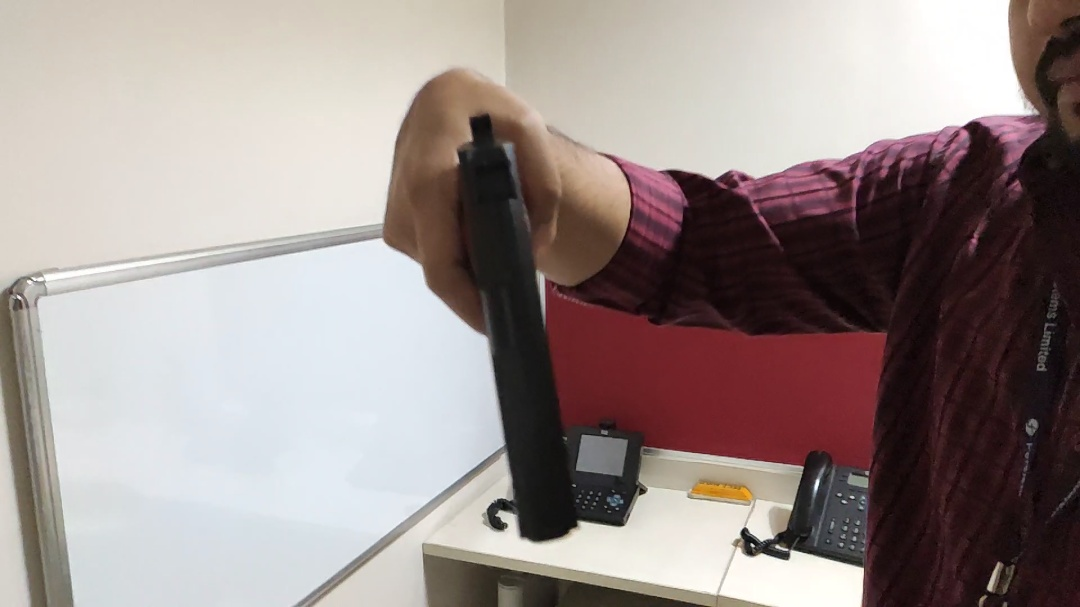gun: (413, 100, 609, 547)
